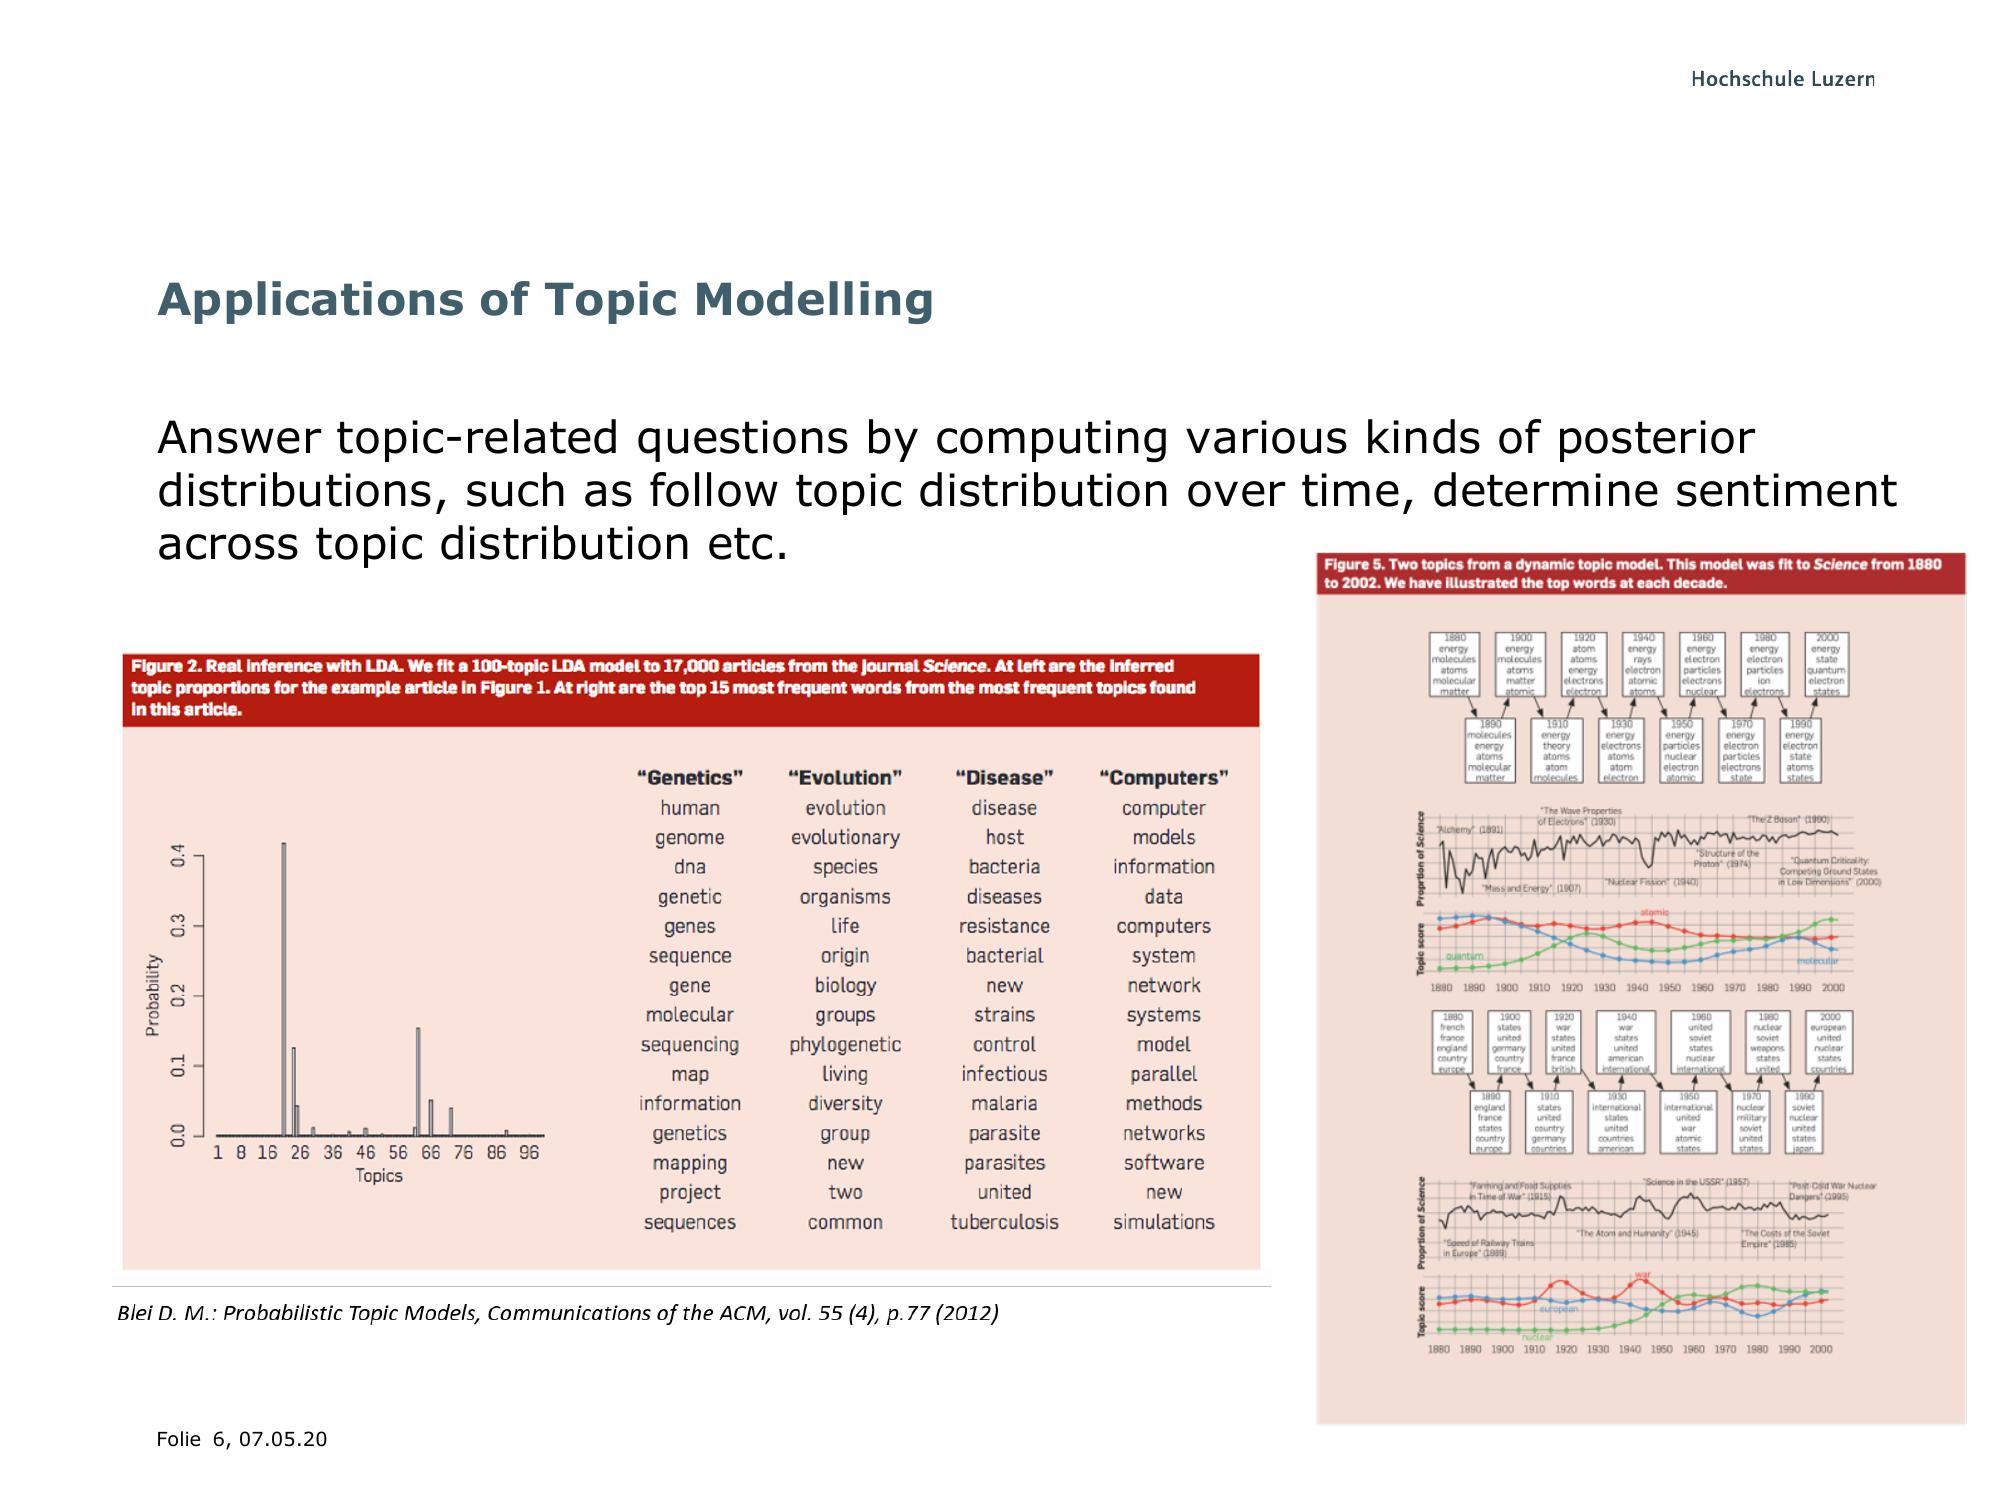Title: (140, 266, 939, 332)
